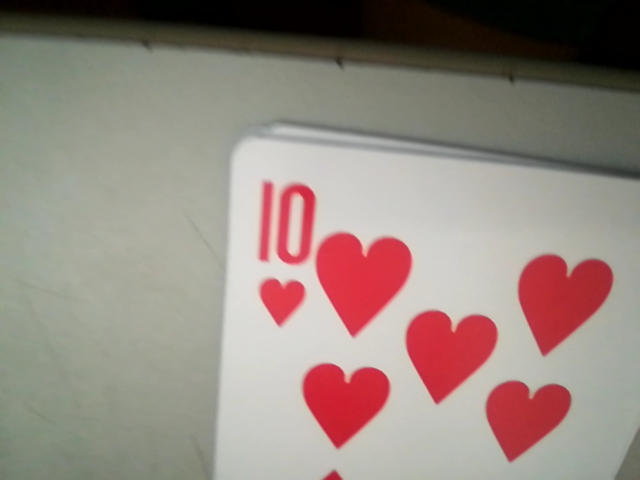hx 10: (239, 182, 318, 326)
